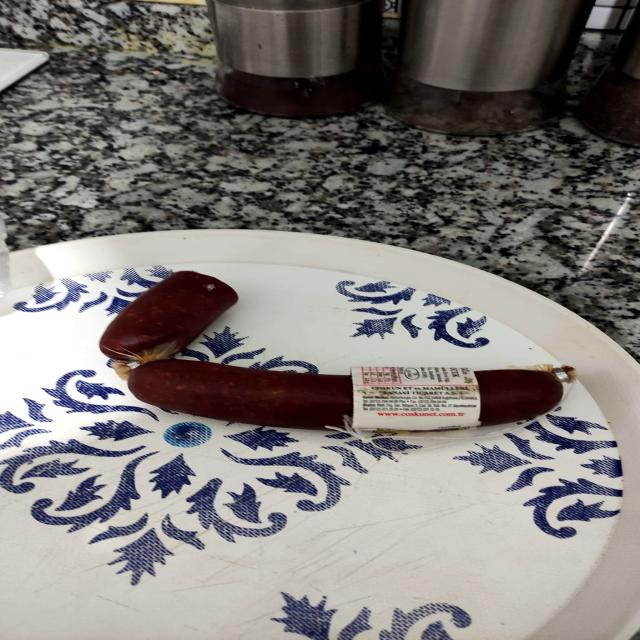sausage: (111, 350, 596, 443), (61, 266, 294, 364)
